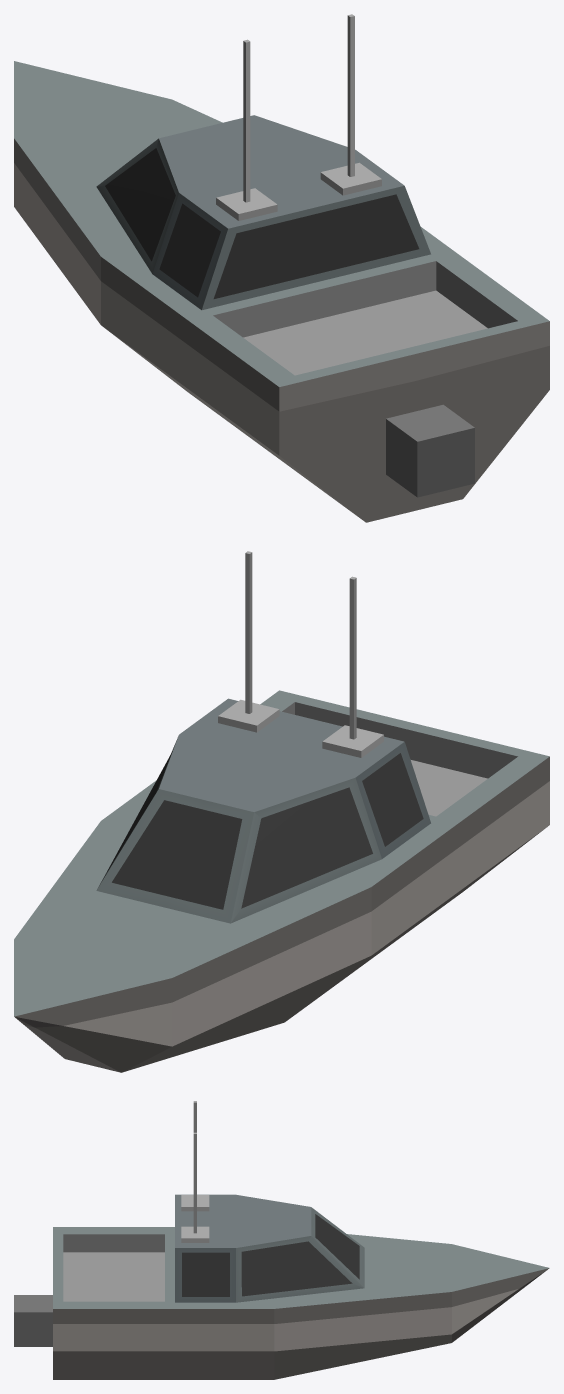
File: Boat_02_blue.glb
The picture shows the model from 3 angles, top to bottom: view 1: azimuth 30°, elevation 25°; view 2: azimuth 150°, elevation 25°; view 3: azimuth 270°, elevation 25°; orthographic projection. The views are drawn at different scales.
Visible parts, largest first — view 1: Vehicle_Boat_02; view 2: Vehicle_Boat_02; view 3: Vehicle_Boat_02.
Part boxes in pixels (<box>): Vehicle_Boat_02: <box>14,14,549,522</box>; Vehicle_Boat_02: <box>14,551,549,1072</box>; Vehicle_Boat_02: <box>14,1101,549,1379</box>.
Bounding box in the file's own units: 2.5 × 3.52 × 6.92.
1 material, 1 textured.
